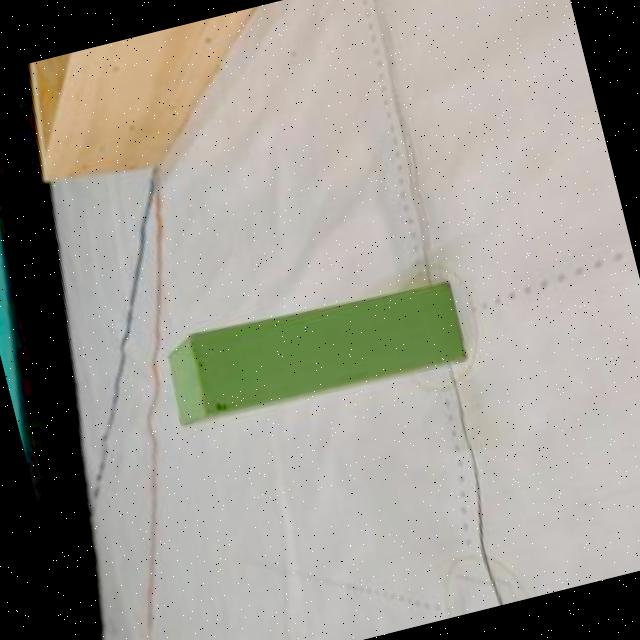greenbox: (153, 269, 469, 432)
